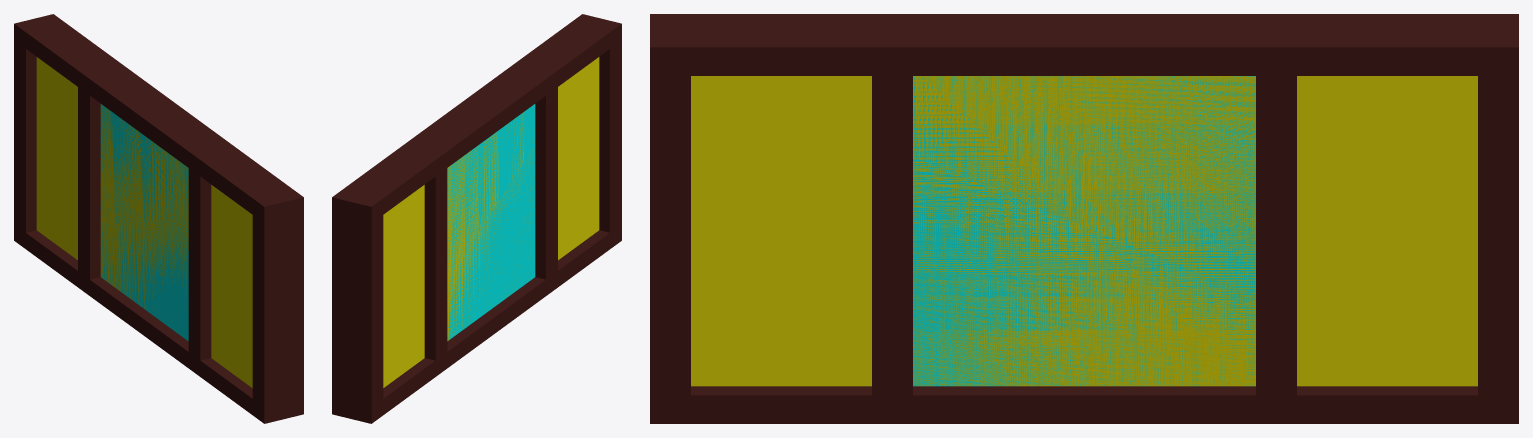
The model's file is Paintings.fbx.
3 views of the same model, side by side, from view 1: azimuth 30°, elevation 25°; view 2: azimuth 150°, elevation 25°; view 3: azimuth 270°, elevation 25° (orthographic). The views are drawn at different scales.
Parts seen in each view (by area): view 1: Cube.001, Cube.003; view 2: Cube.001, Cube.003; view 3: Cube.001, Cube.003.
Boxes of the visible parts, x1,y1,x2,y2 form: Cube.001: (14, 14, 303, 423); Cube.003: (78, 61, 238, 364); Cube.001: (332, 14, 621, 423); Cube.003: (400, 61, 557, 372); Cube.001: (650, 14, 1518, 423); Cube.003: (872, 14, 1296, 423).
Size of the model in its own units: 133 by 697 by 1459.
